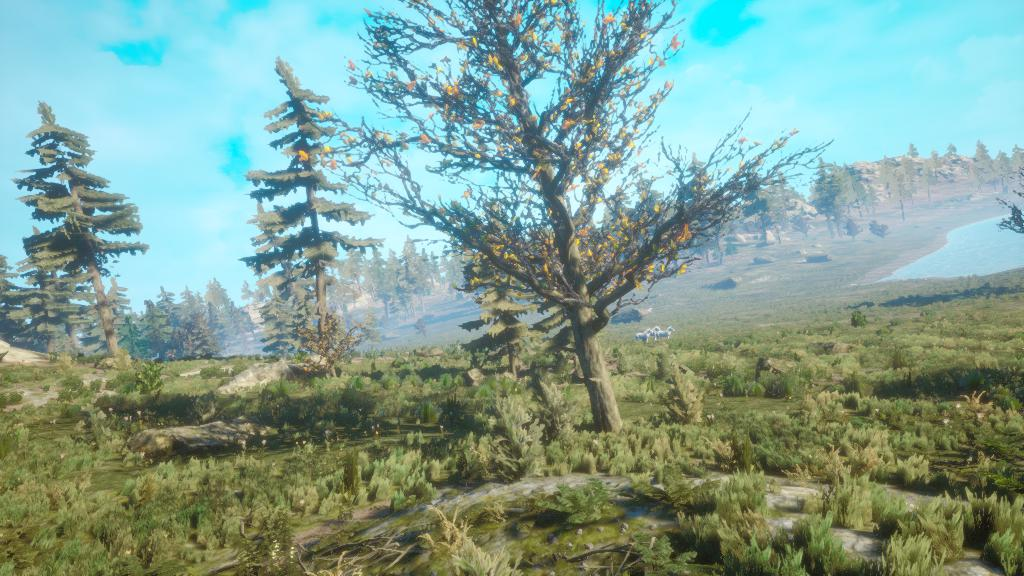zebra: (628, 318, 687, 348)
